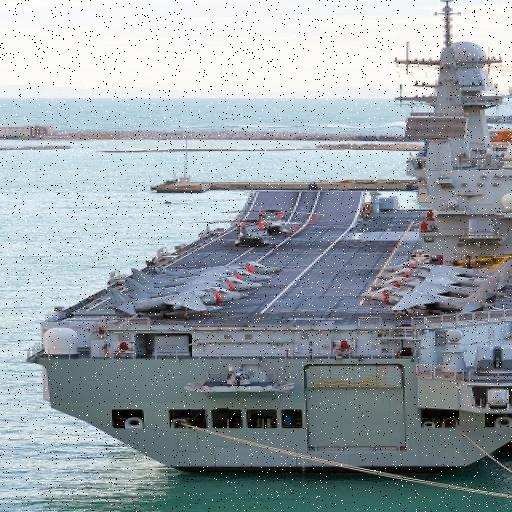Portanaves: (28, 6, 512, 482)
